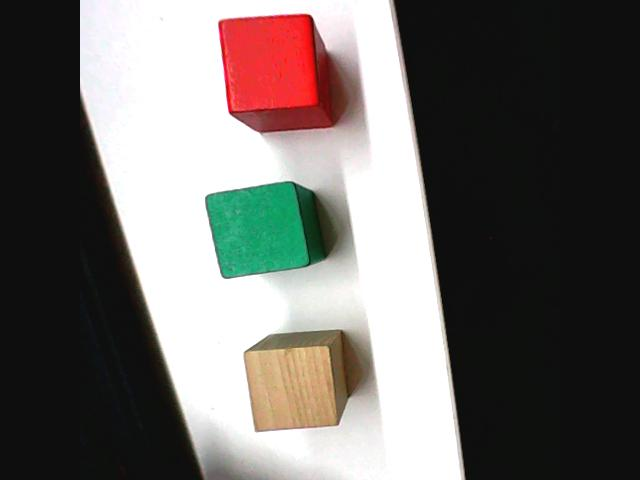green_box: (200, 178, 328, 282)
raw_box: (239, 326, 350, 435)
red_box: (213, 10, 336, 136)
